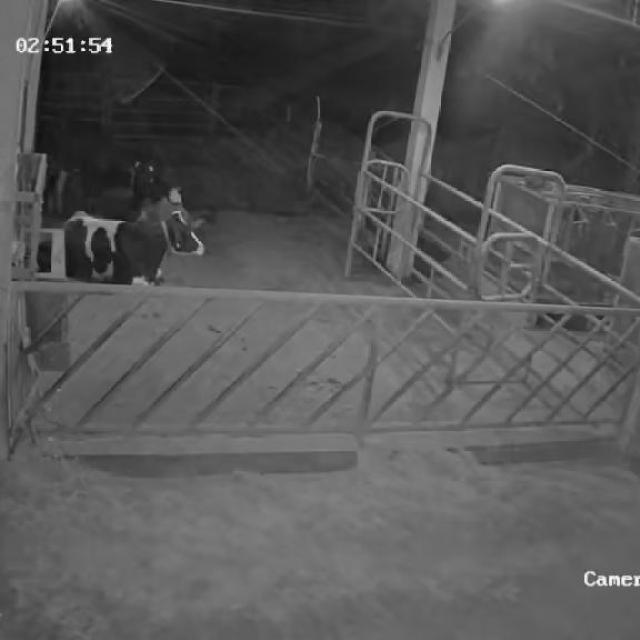lying down: (51, 195, 205, 294), (144, 154, 207, 246)
standing: (25, 100, 159, 216)
